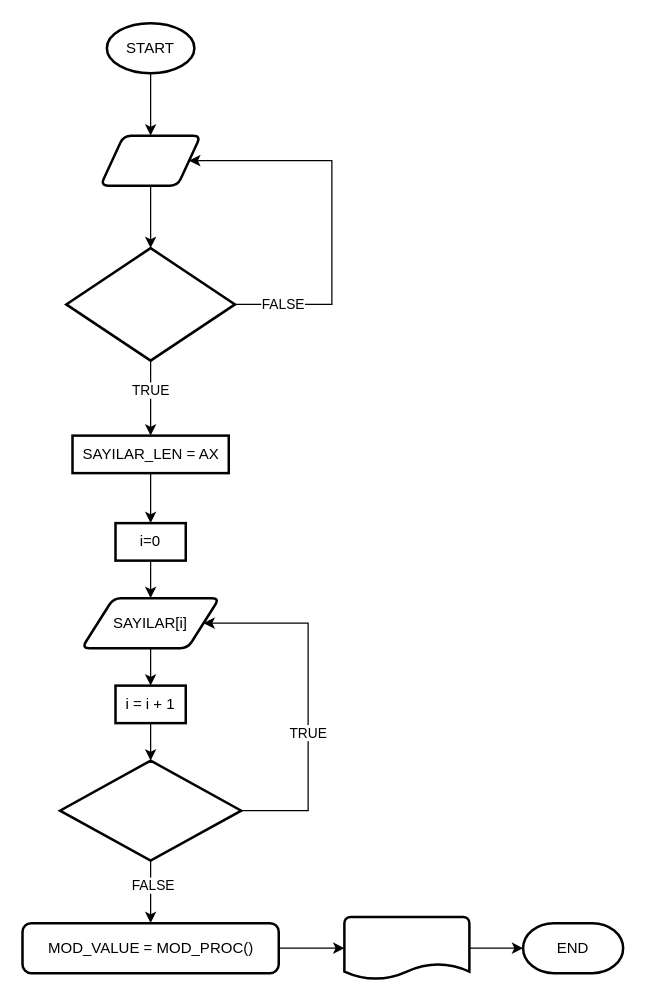
This 646x1001 diagram has some shape labels left out. Here are the shapes that lost their labels. From the top down, the centre of each, then its label:
At pixel 150 160: "AX".
At pixel 150 303: "AX <= 10 AND AX >= 1".
At pixel 150 810: "i < SAYILAR_LEN".
At pixel 406 947: "MOD_VALUE".
